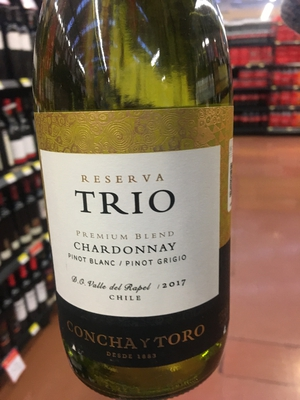trio chardonnay: (32, 4, 247, 395)
